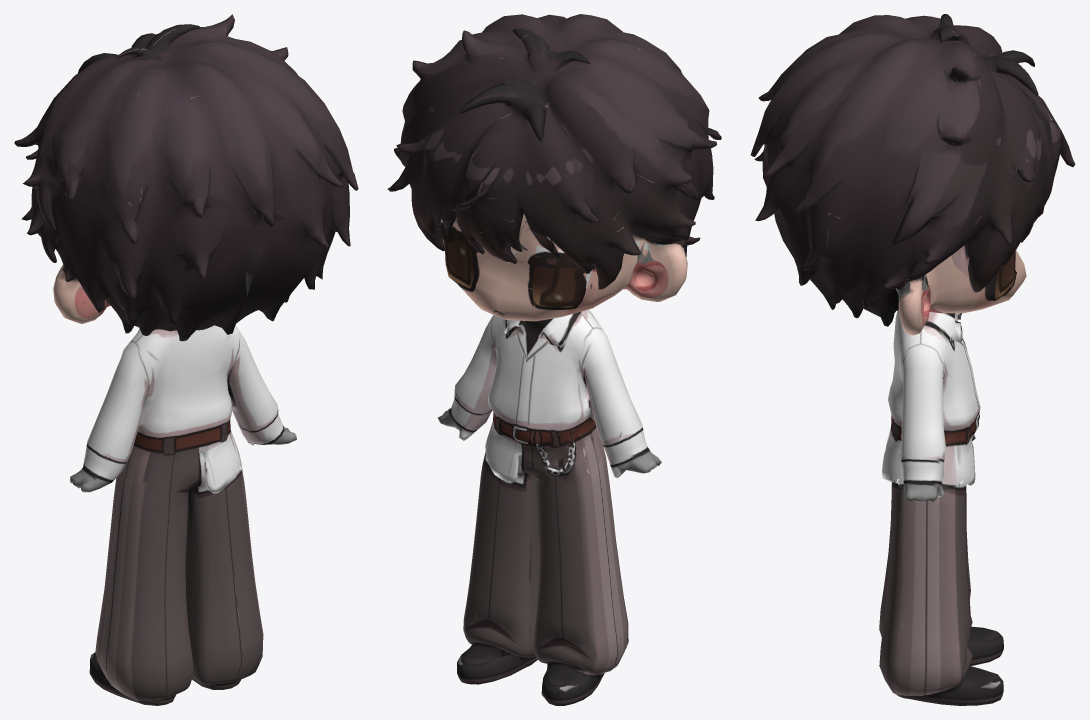
File: SM_A_Npc_Feng.glb
3 views of the same model, side by side, from view 1: azimuth 30°, elevation 25°; view 2: azimuth 150°, elevation 25°; view 3: azimuth 270°, elevation 25° (orthographic).
Visible parts, largest first — view 1: SM_A_Npc_Feng; view 2: SM_A_Npc_Feng; view 3: SM_A_Npc_Feng.
Boxes of the visible parts, left/top/right/bottom form: SM_A_Npc_Feng: left=14, top=14, right=358, bottom=705; SM_A_Npc_Feng: left=387, top=14, right=721, bottom=705; SM_A_Npc_Feng: left=750, top=14, right=1075, bottom=705.
Bounding box in the file's own units: 0.6442 × 1.3 × 0.5871.
1 material, 1 textured.
